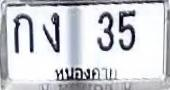3: (96, 11, 113, 51)
5: (118, 9, 135, 50)
A01: (12, 13, 34, 53)
A07: (42, 12, 59, 52)
NKI: (53, 62, 121, 82)
